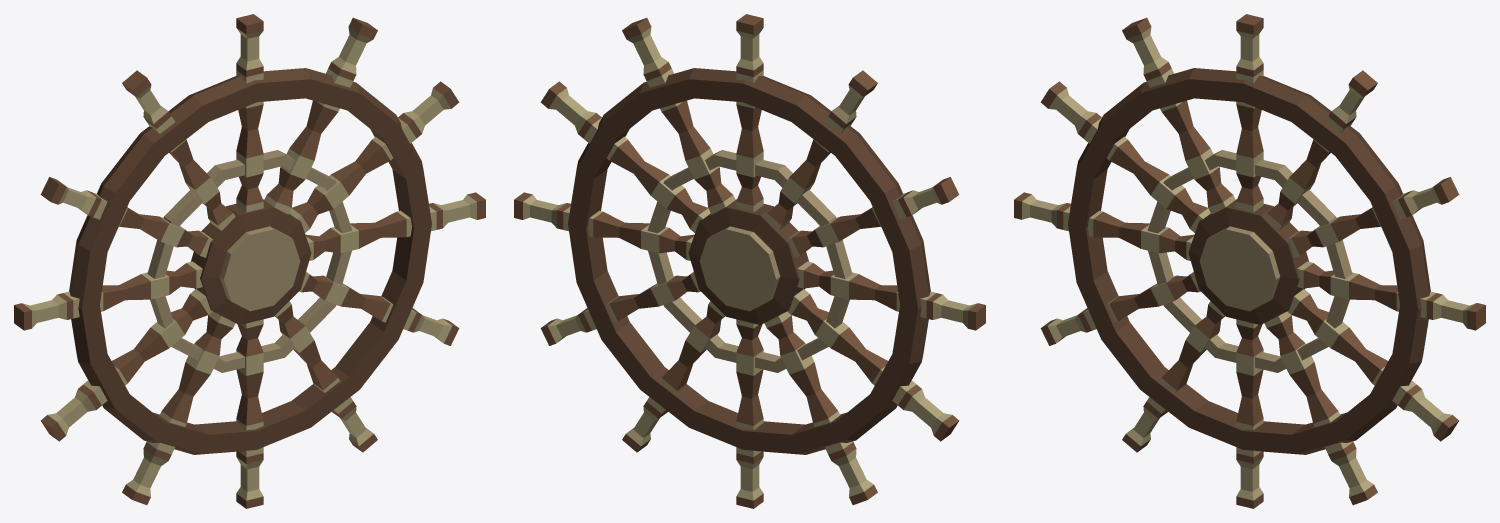
The model's file is SM_Prop_ShipWheel_02.glb.
3 views of the same model, side by side, from view 1: azimuth 30°, elevation 25°; view 2: azimuth 150°, elevation 25°; view 3: azimuth 330°, elevation 25° (orthographic).
Visible parts, largest first — view 1: SM_Prop_ShipWheel_02; view 2: SM_Prop_ShipWheel_02; view 3: SM_Prop_ShipWheel_02.
Boxes of the visible parts, box(x1,y1,x2,y2) form: SM_Prop_ShipWheel_02: box(14, 14, 485, 508); SM_Prop_ShipWheel_02: box(514, 14, 985, 508); SM_Prop_ShipWheel_02: box(1014, 14, 1485, 508).
Size of the model in its own units: 0.0137 by 0.0137 by 0.00125.
